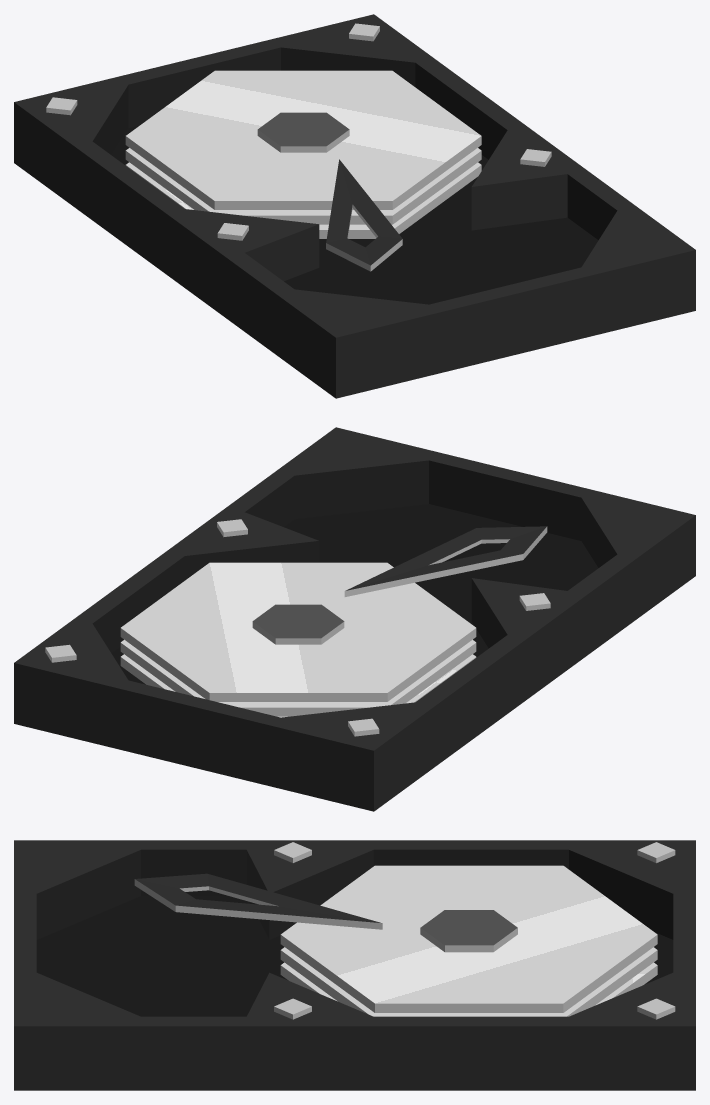
File: HardDrive.fbx
3 renders of one model, top to bottom at view 1: azimuth 30°, elevation 25°; view 2: azimuth 150°, elevation 25°; view 3: azimuth 270°, elevation 25°, orthographic. The views are drawn at different scales.
Visible parts, largest first — view 1: HardDrive, HardDriveSpinner; view 2: HardDrive, HardDriveSpinner; view 3: HardDrive, HardDriveSpinner.
Part boxes in pixels (box(x1,y1,x2,y2)): HardDrive: box(14, 14, 695, 398); HardDriveSpinner: box(326, 159, 402, 271); HardDrive: box(14, 427, 695, 811); HardDriveSpinner: box(344, 526, 547, 596); HardDrive: box(14, 840, 695, 1090); HardDriveSpinner: box(134, 873, 382, 929).
Bounding box in the file's own units: 35.83 × 6.57 × 55.5.
Materials: 2 (2 with a texture image).
